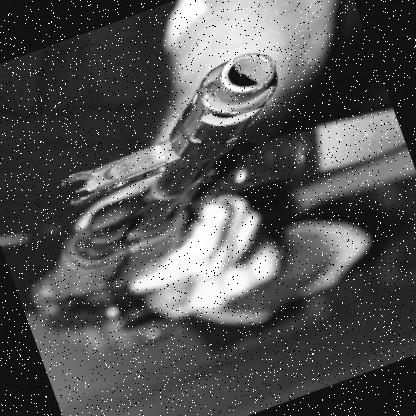rifle: (0, 28, 358, 353)
